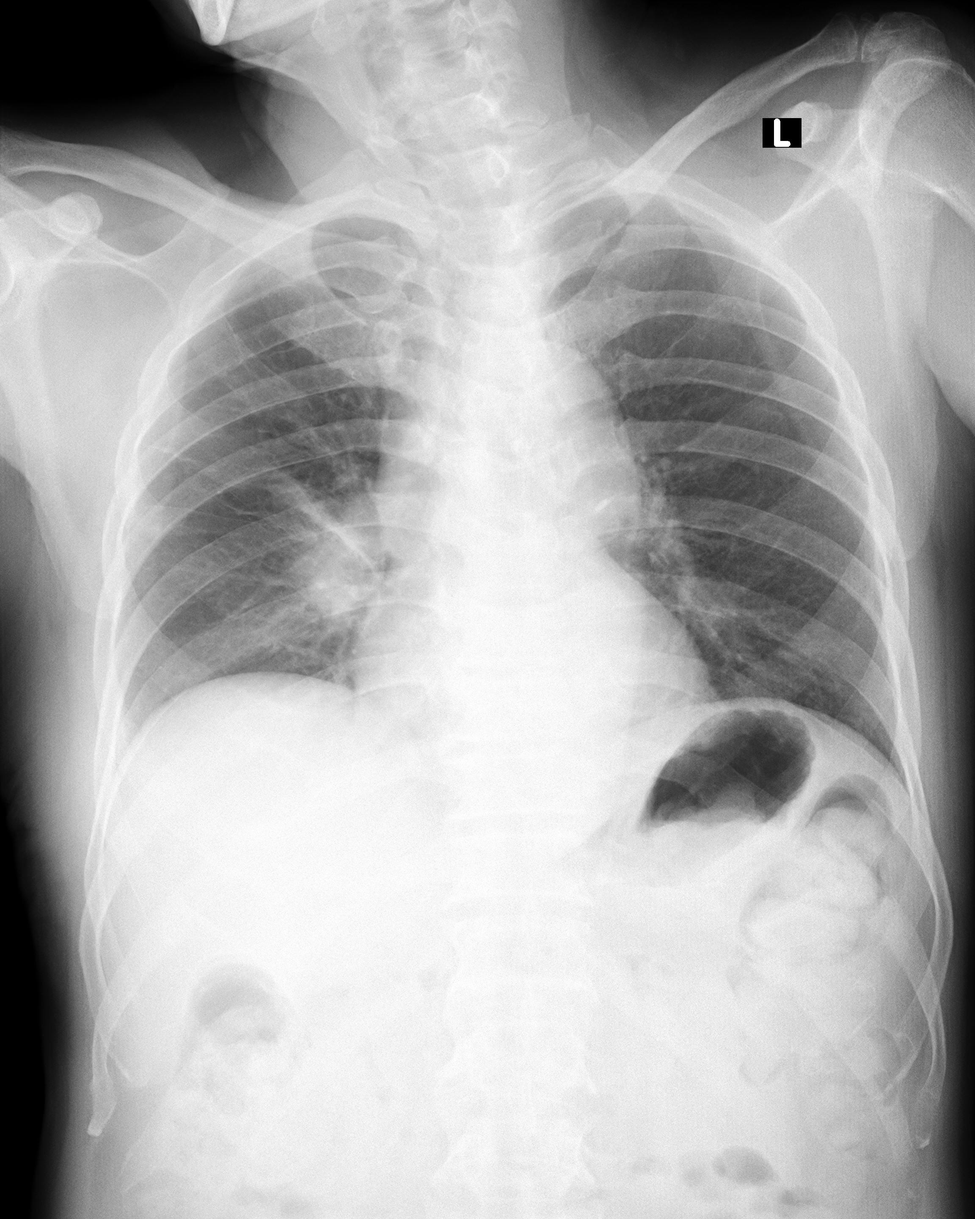Aortic enlargement: (373, 337, 647, 576)
Pulmonary fibrosis: (136, 319, 372, 591)
